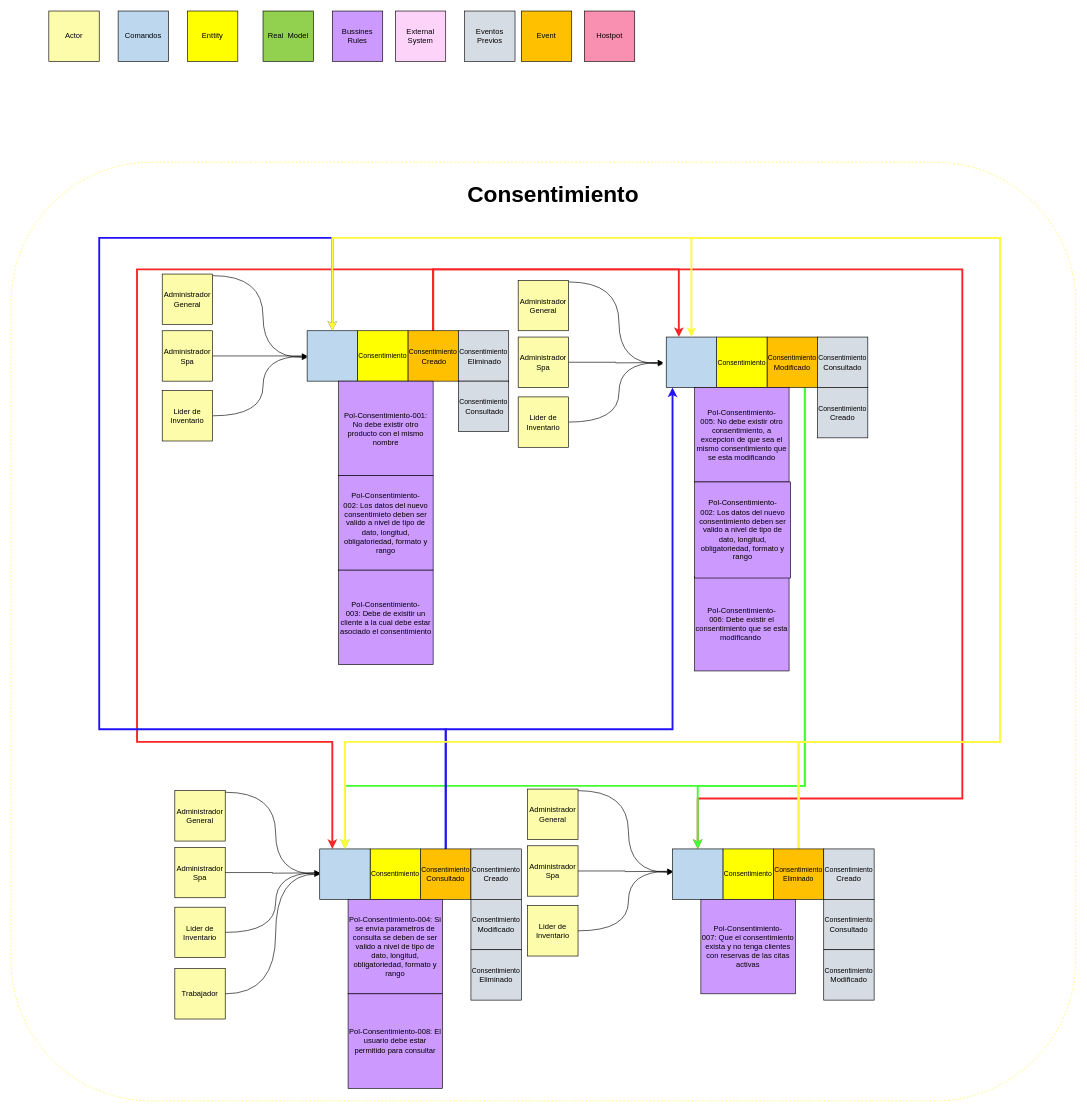
This 1087x1112 diagram has some shape labels left out. Here are the shapes that lost their labels. From the top down, the box of each, then its label:
(306, 330, 358, 381): Crear Consentimiento
(666, 336, 717, 387): Modificar Consentimiento
(319, 848, 370, 899): Consultar Consentimiento
(672, 848, 723, 899): Eliminar Consentimiento
